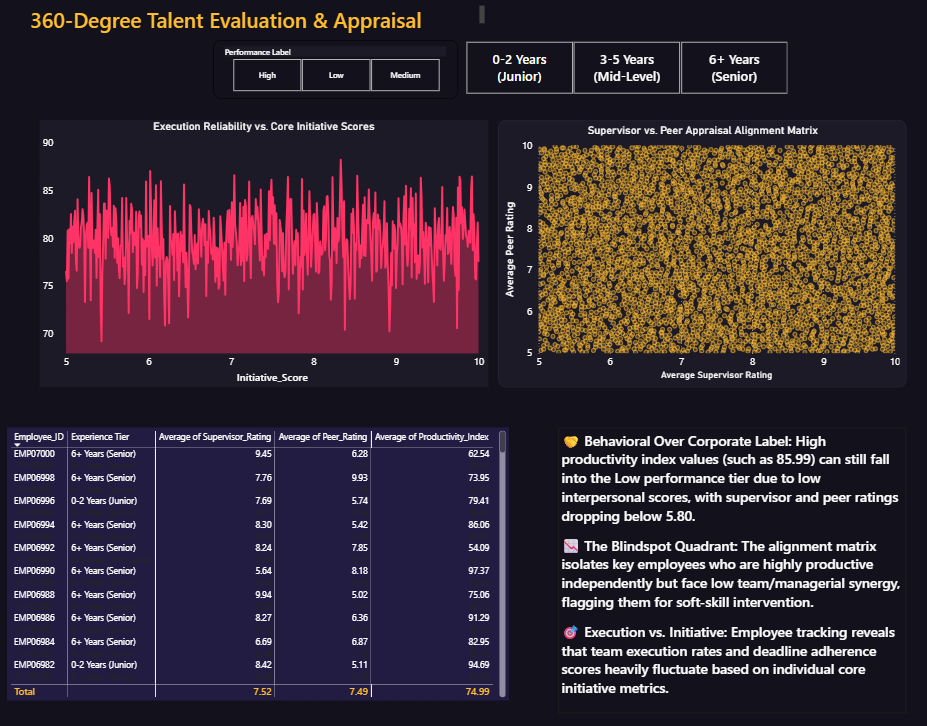

The dashboard page shown, as its layout file describes it:
{"tool":"powerbi","page":{"name":"Talent Appraisal","canvas":[1450,1138],"ordinal":1},"visuals":[{"type":"slicer","fields":{"Values":["employee_performance_dataset.Experience Tier"]},"box":[696.9,64.1,543.8,95.3],"z":0},{"type":"slicer","fields":{"Values":["employee_performance_dataset.Performance_Label"]},"box":[332.8,68.8,376.6,90.6],"z":1000},{"type":"scatterChart","title":"Supervisor vs. Peer Appraisal Alignment Matrix","fields":{"Category":["employee_performance_dataset.Employee_ID"],"X":["Avg(employee_performance_dataset.Supervisor_Rating)"],"Y":["Avg(employee_performance_dataset.Peer_Rating)"]},"box":[771.9,192.2,628.1,410.9],"z":2000},{"type":"areaChart","title":"Execution Reliability vs. Core Initiative Scores","fields":{"Category":["employee_performance_dataset.Initiative_Score"],"Y":["Avg(employee_performance_dataset.Deadline_Adherence)"]},"box":[65.6,192.2,690.6,410.9],"z":3000},{"type":"tableEx","fields":{"Values":["employee_performance_dataset.Employee_ID","employee_performance_dataset.Experience Tier","Avg(employee_performance_dataset.Supervisor_Rating)","Avg(employee_performance_dataset.Peer_Rating)","Avg(employee_performance_dataset.Productivity_Index)"]},"box":[15.6,665.6,771.9,420.3],"z":4000},{"type":"textbox","box":[46.9,10.9,709.4,57.8],"z":5000},{"type":"textbox","box":[864.1,665.6,535.9,440.6],"z":6000}]}

Visuals, with their boxes in screenshot pixels (x1, y1, x2, y2), scaled from the page's 1450x1138 canvas onto the 927x726 screenshot:
slicer - employee_performance_dataset.Experience Tier: detection(446, 41, 793, 102)
slicer - employee_performance_dataset.Performance_Label: detection(213, 44, 454, 102)
"Supervisor vs. Peer Appraisal Alignment Matrix" scatterChart: detection(493, 123, 895, 385)
"Execution Reliability vs. Core Initiative Scores" areaChart: detection(42, 123, 483, 385)
tableEx - employee_performance_dataset.Employee_ID x employee_performance_dataset.Experience Tier: detection(10, 425, 503, 693)
textbox: detection(30, 7, 484, 44)
textbox: detection(552, 425, 895, 706)
